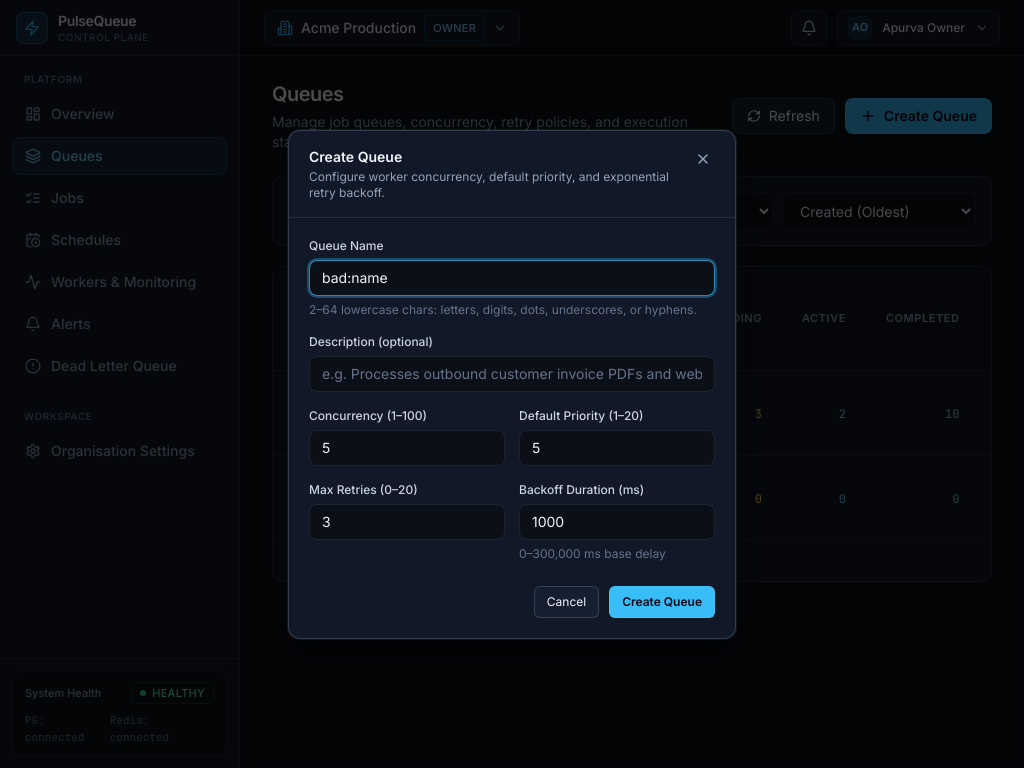
Test: Queue Management UI — Overview, CRUD, Pause/Resume, Detail & RBAC (Step 6.2) › validates create queue form inputs and creates a new queue with query invalidation
Earlier steps of the test are not shown.
Click the button "Create Queue" at (662, 602), box top-left (609, 586), bottom-right (715, 618)
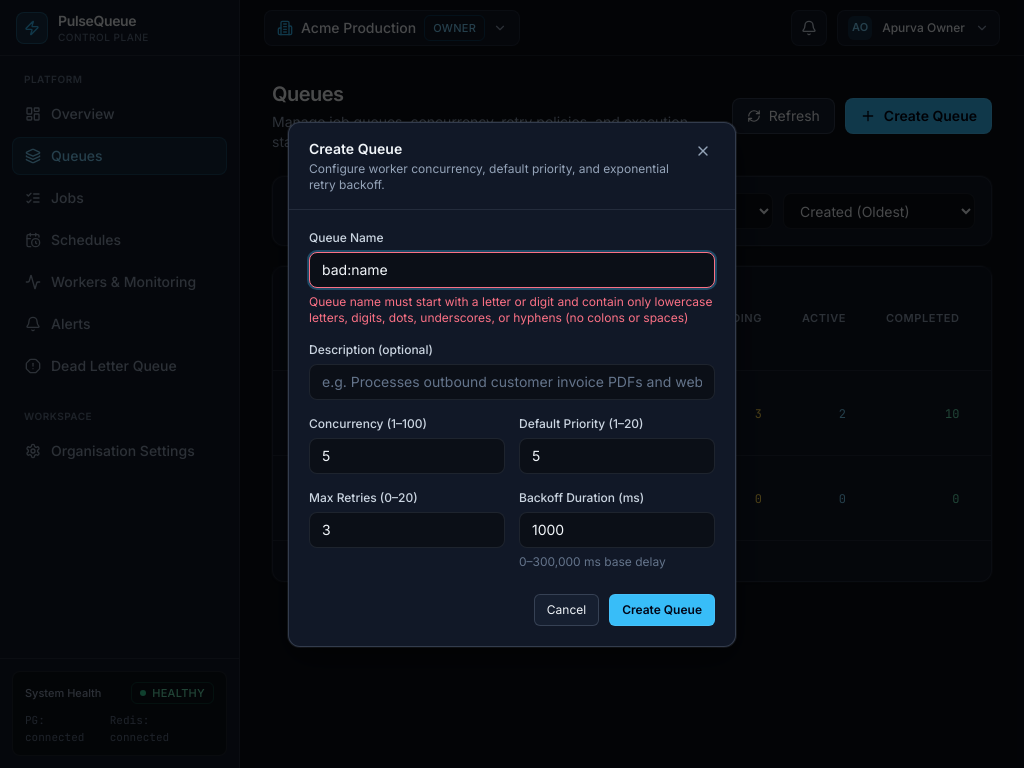
Expected: the text "Queue name must start with a letter or digit" is shown, top-left (309, 294), bottom-right (712, 324)
// Fix name and submit valid configuration
Clear the field labelled "Queue Name" at (512, 270), box top-left (309, 252), bottom-right (715, 288)
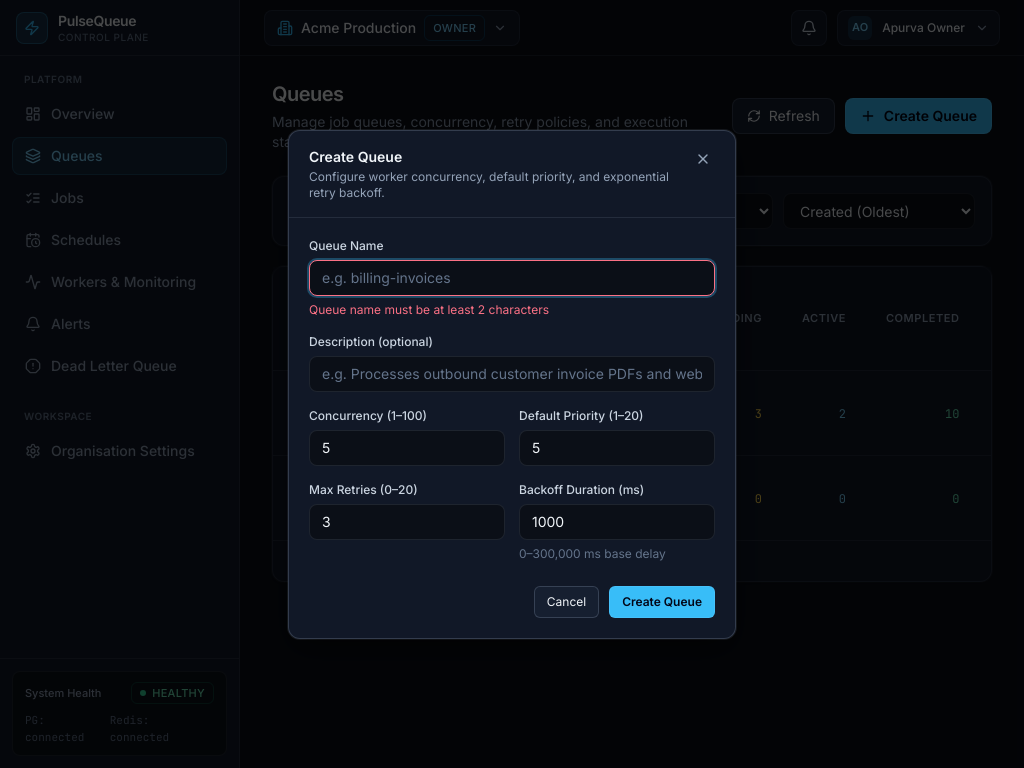
Type "email-dispatches" into the field labelled "Queue Name" at (512, 278), box top-left (309, 260), bottom-right (715, 296)
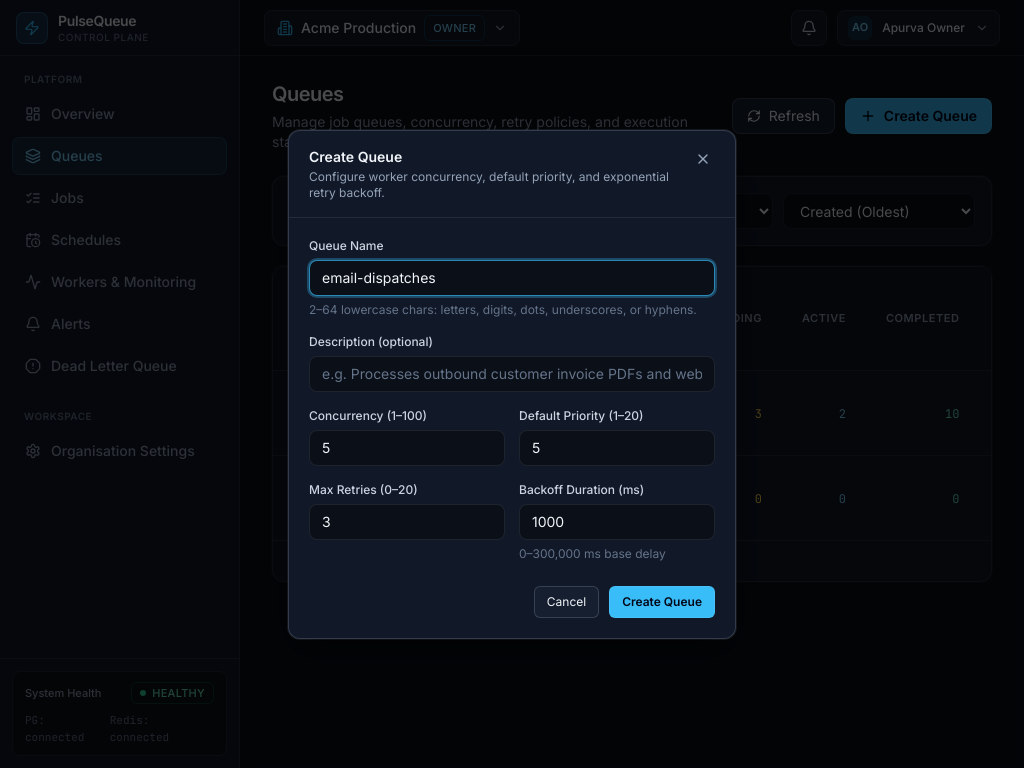
Clear the number field labelled "Concurrency (1–100)" at (407, 448), box top-left (309, 430), bottom-right (505, 466)
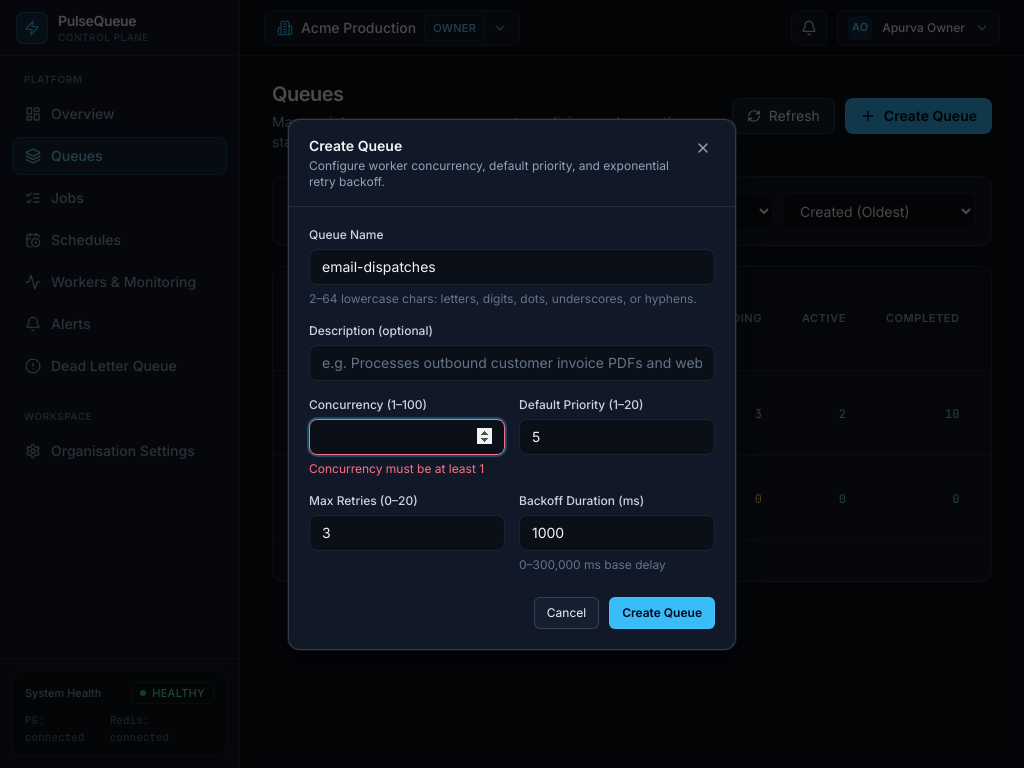
Type "15" into the number field labelled "Concurrency (1–100)" at (407, 436), box top-left (309, 418), bottom-right (505, 454)
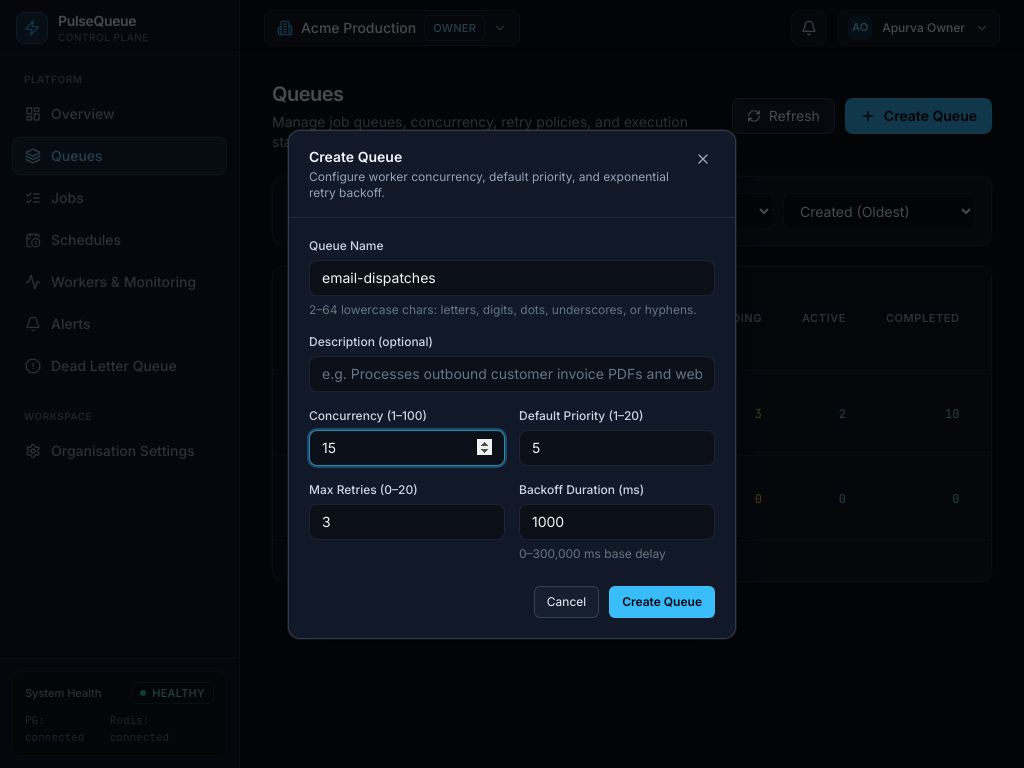
Click the button "Create Queue" at (662, 602), box top-left (609, 586), bottom-right (715, 618)
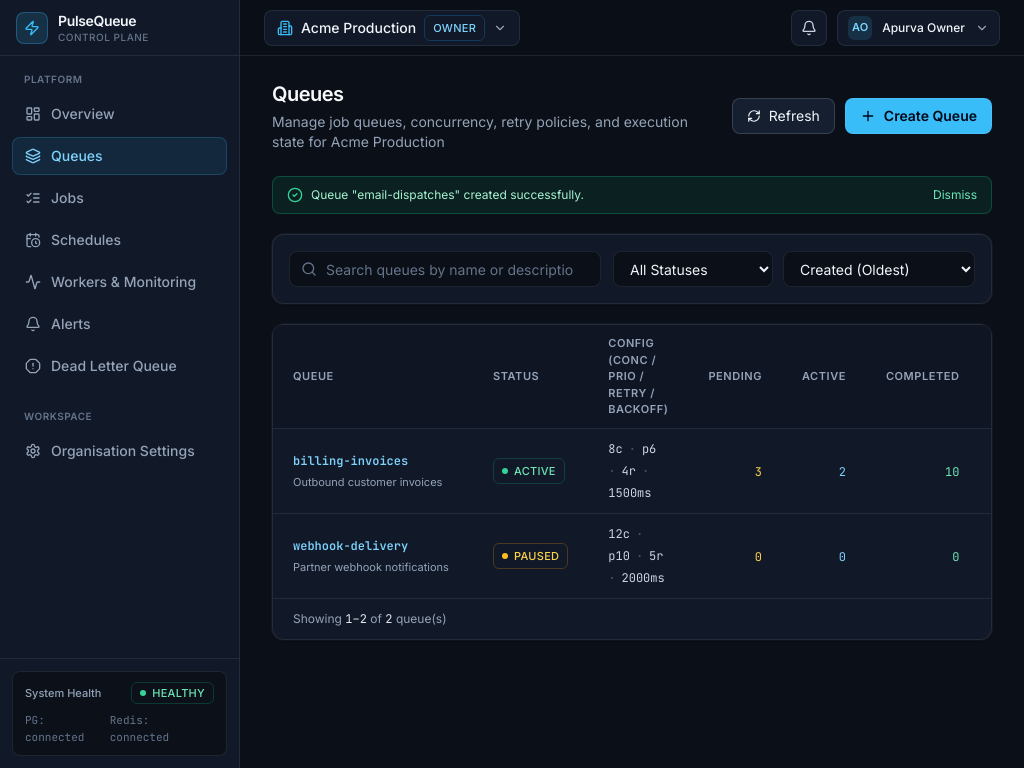
Expected: the text "Queue \"email-dispatches\" created successfully." is shown, top-left (311, 187), bottom-right (584, 203)
